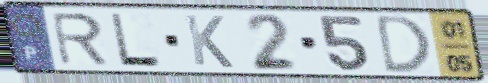2: (242, 12, 301, 72)
5: (315, 13, 372, 74)
D: (373, 13, 433, 76)
K: (182, 12, 237, 70)
L: (107, 11, 166, 69)
R: (48, 11, 112, 68)
